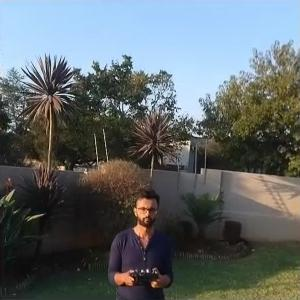follow: (104, 181, 176, 299)
